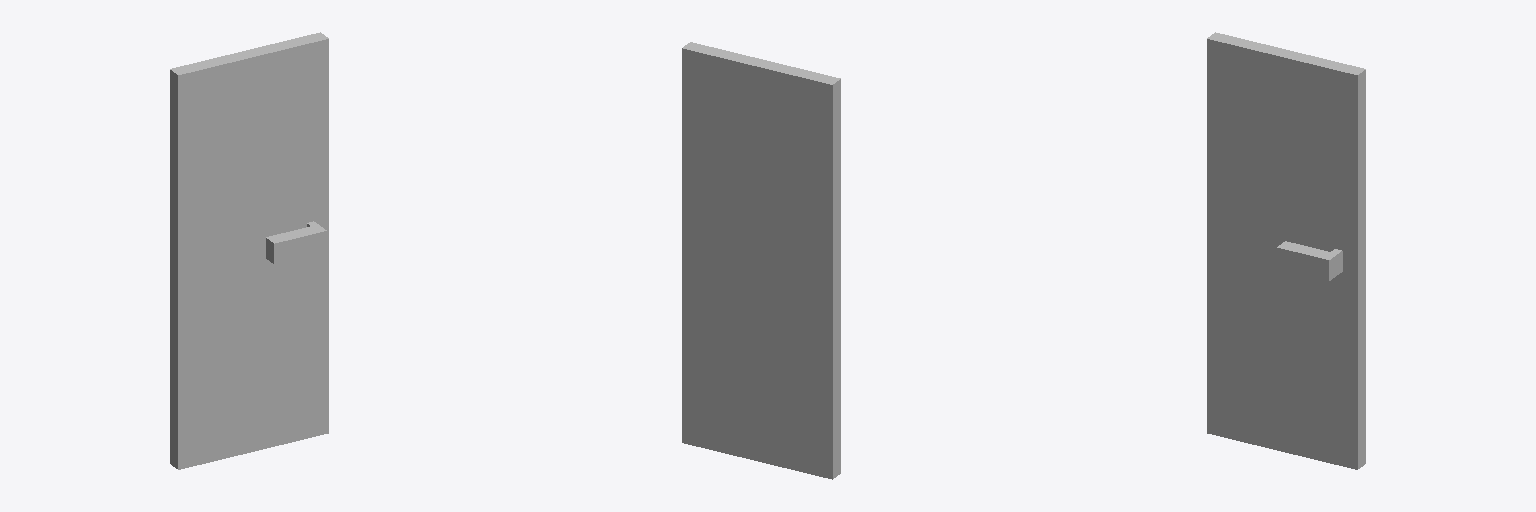
The model's file is WardrobeDoorLeft.obj.
3 renders of one model, left to right at view 1: azimuth 30°, elevation 25°; view 2: azimuth 150°, elevation 25°; view 3: azimuth 330°, elevation 25°, orthographic.
Parts seen in each view (by area): view 1: WardrobeDoorLeft; view 2: WardrobeDoorLeft; view 3: WardrobeDoorLeft.
Boxes of the visible parts, x1=… form: WardrobeDoorLeft: x1=170, y1=32, x2=328, y2=469; WardrobeDoorLeft: x1=682, y1=42, x2=840, y2=479; WardrobeDoorLeft: x1=1207, y1=32, x2=1365, y2=469.
Size of the model in its own units: 1 by 2.5 by 0.25.